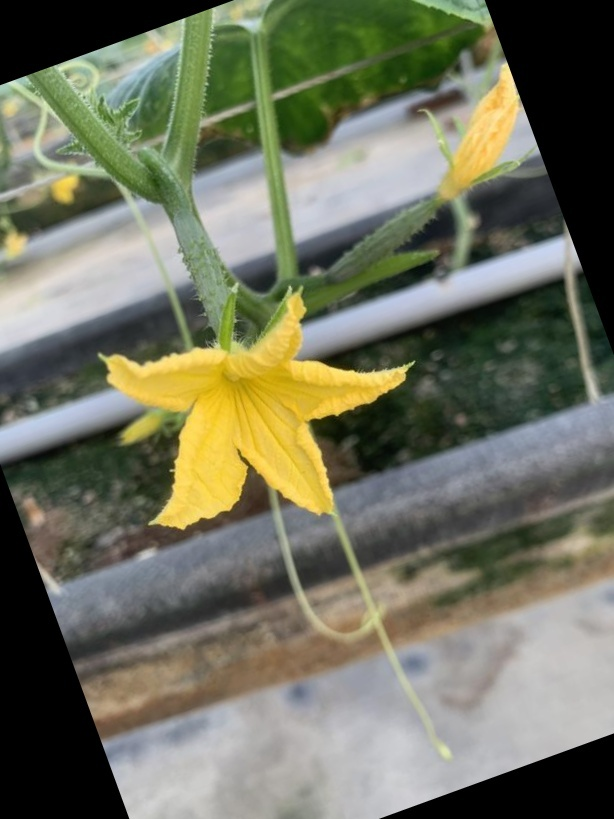bear: (323, 77, 516, 283)
flowering: (96, 282, 413, 529)
